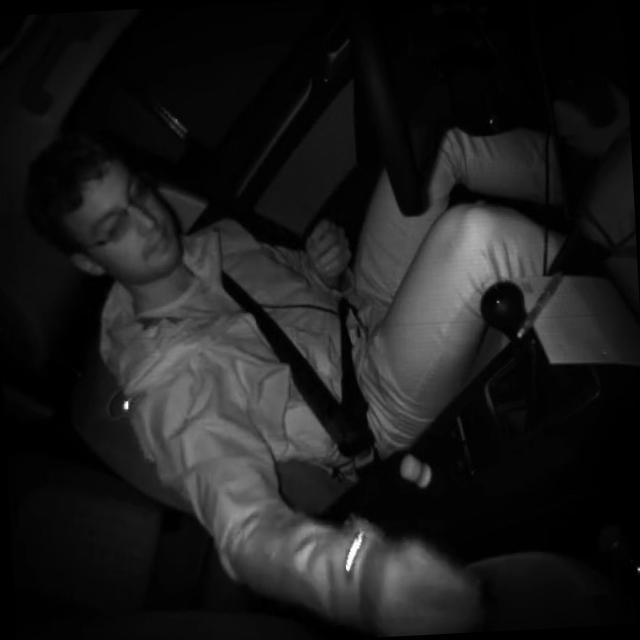pen: (512, 267, 569, 340)
